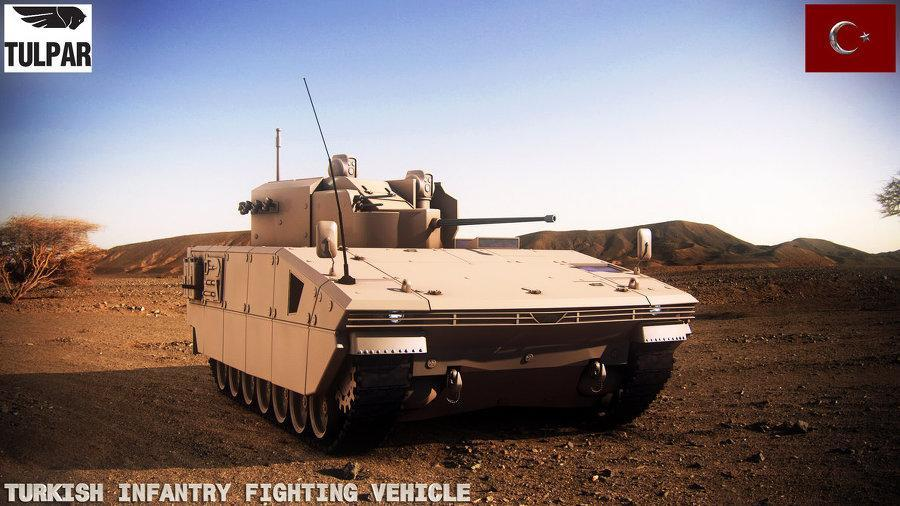MIL_IFV: (184, 145, 699, 452)
